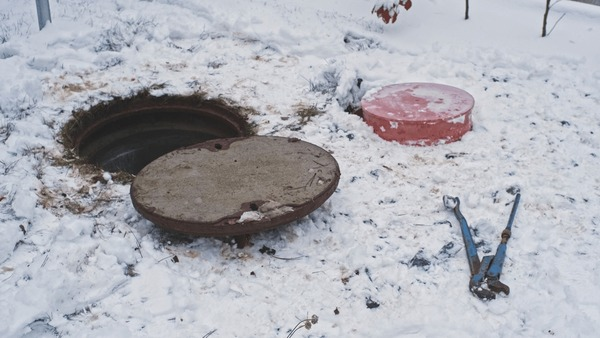open_manhole: (63, 81, 252, 171)
